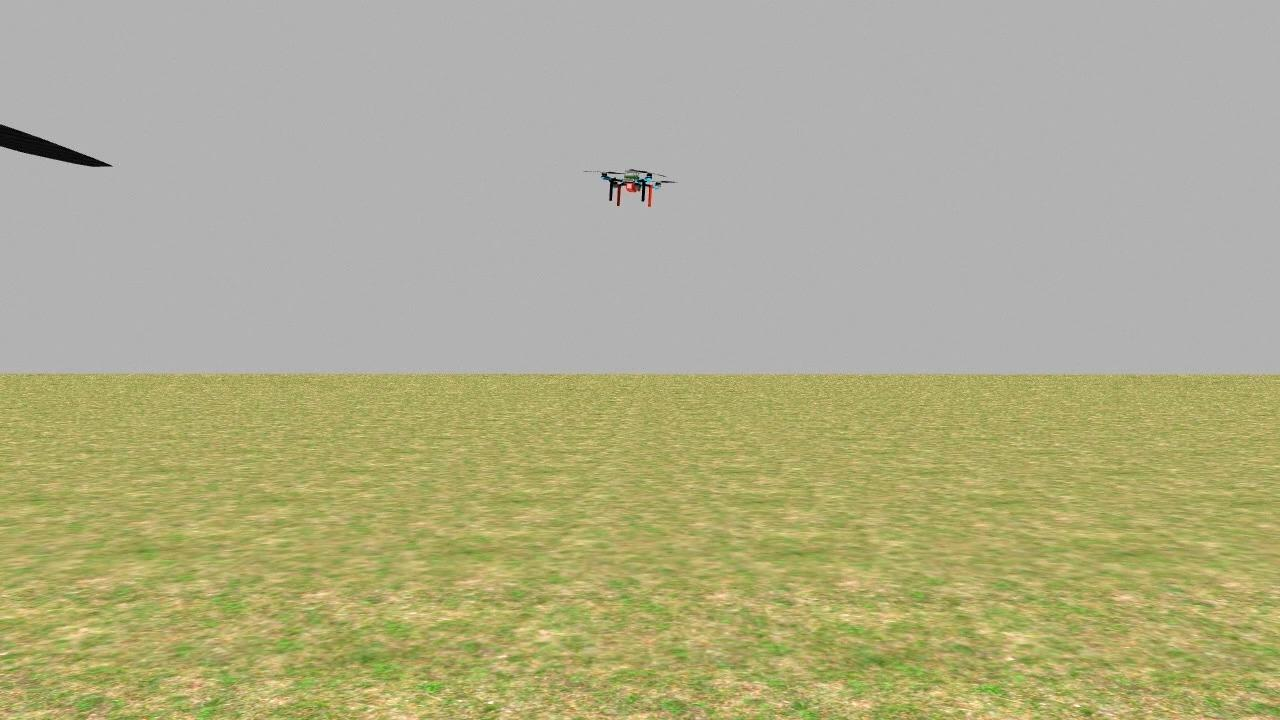UAV: (580, 143, 680, 221)
